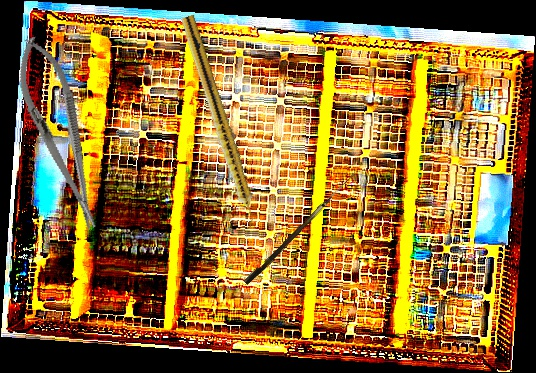Handpiece: (176, 14, 263, 231)
Hook Surgical: (243, 167, 356, 288)
Needle Holder: (4, 30, 116, 237)
